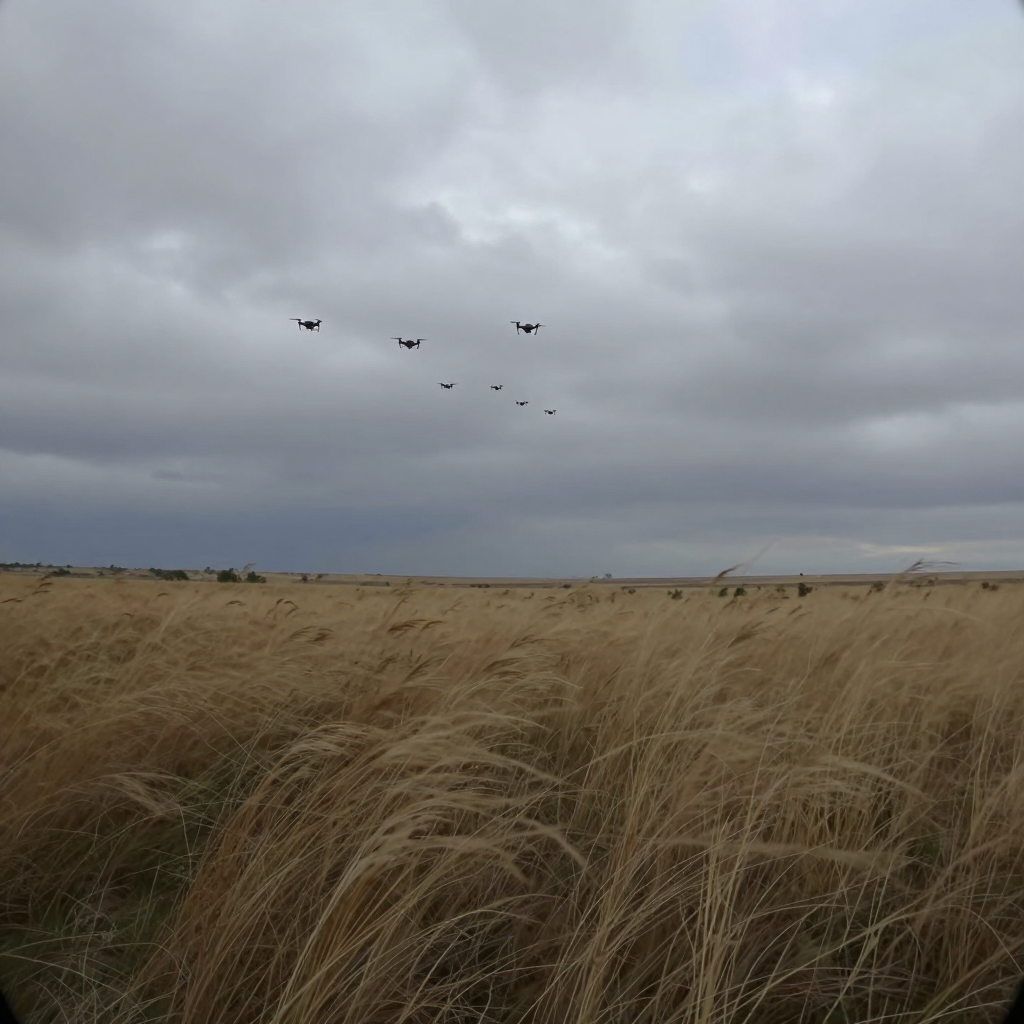drone: (510, 321, 547, 335), (391, 337, 428, 350), (289, 318, 323, 332), (437, 383, 459, 390), (490, 384, 504, 391), (515, 400, 529, 407), (544, 409, 557, 415)
